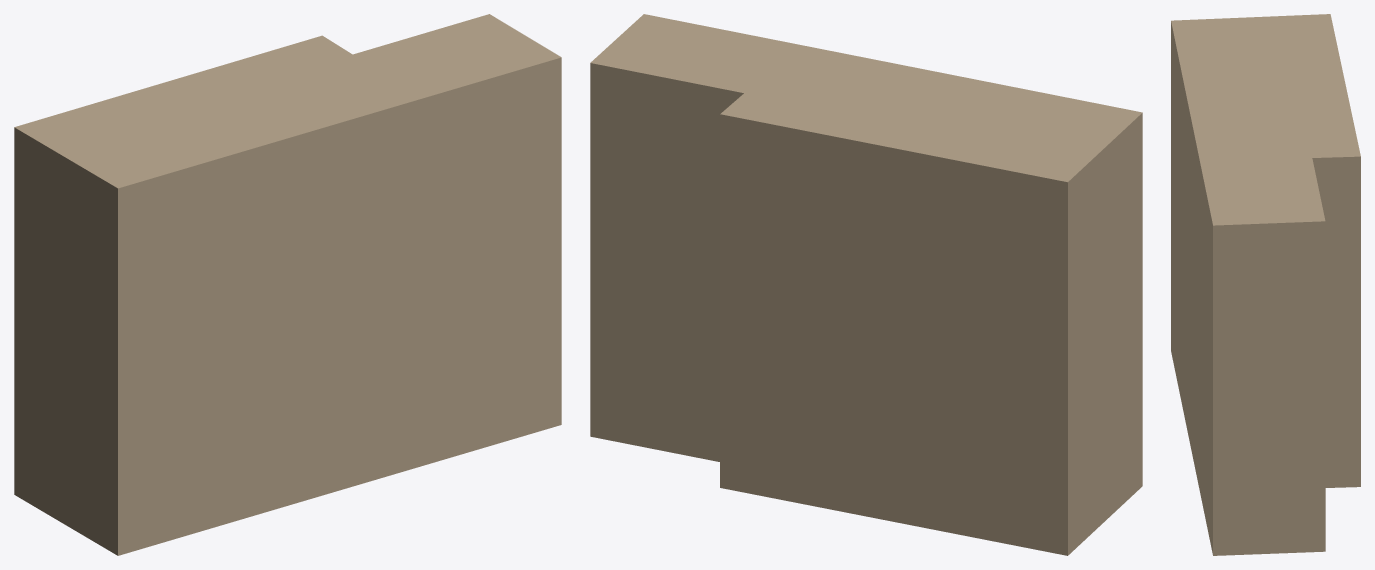
The model's file is bld_101572351.dae.
The picture shows the model from 3 angles, left to right: view 1: azimuth 30°, elevation 25°; view 2: azimuth 150°, elevation 25°; view 3: azimuth 270°, elevation 25°; orthographic projection. The views are drawn at different scales.
Visible parts, largest first — view 1: bld_101572351; view 2: bld_101572351; view 3: bld_101572351.
Boxes of the visible parts, x1=… form: bld_101572351: x1=14, y1=14, x2=561, y2=555; bld_101572351: x1=590, y1=14, x2=1142, y2=555; bld_101572351: x1=1171, y1=14, x2=1360, y2=555.
Size of the model in its own units: 10.99 by 4.17 by 8.
